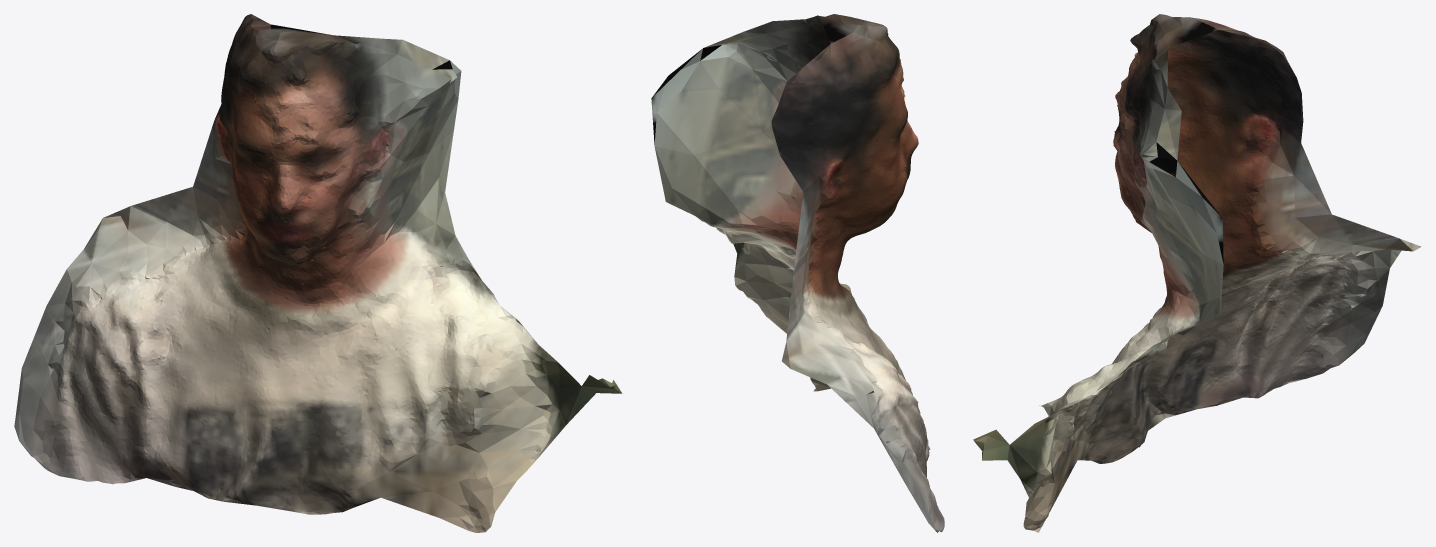
The model's file is texturedMesh.obj.
The picture shows the model from 3 angles, left to right: view 1: azimuth 30°, elevation 25°; view 2: azimuth 150°, elevation 25°; view 3: azimuth 270°, elevation 25°; orthographic projection. The views are drawn at different scales.
Bounding box in the file's own units: 0.901 × 0.9991 × 0.8852.
1 material, 1 textured.
